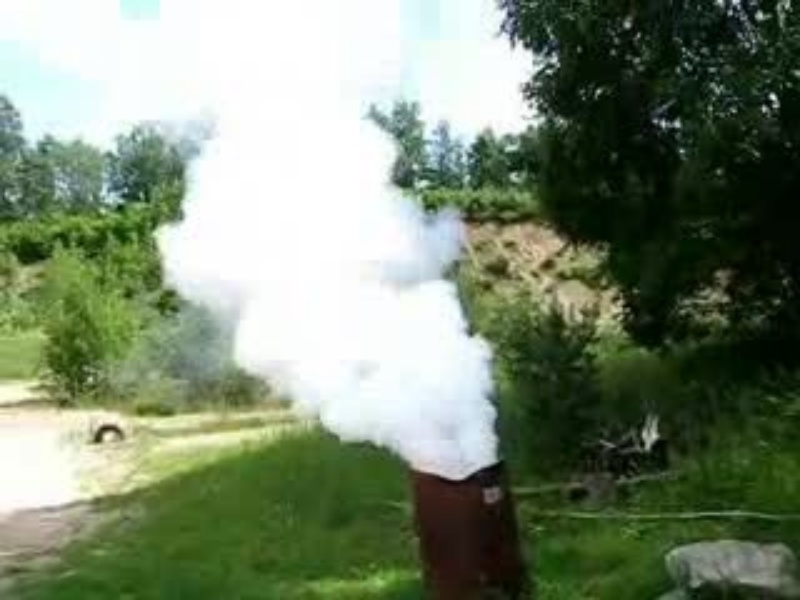smoke: (181, 108, 484, 479)
